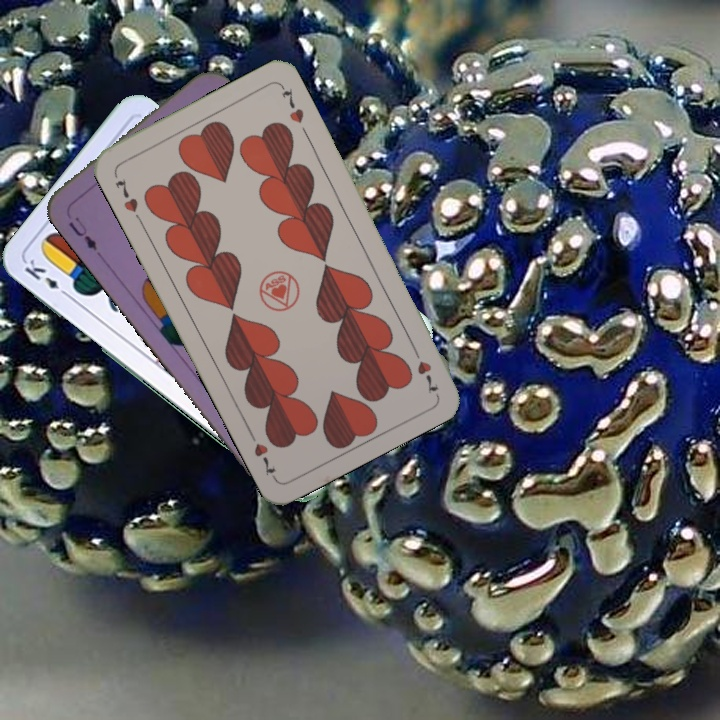EK: (20, 255, 73, 300)
EU: (64, 213, 100, 254)
H7: (408, 341, 442, 396), (110, 174, 145, 224)
